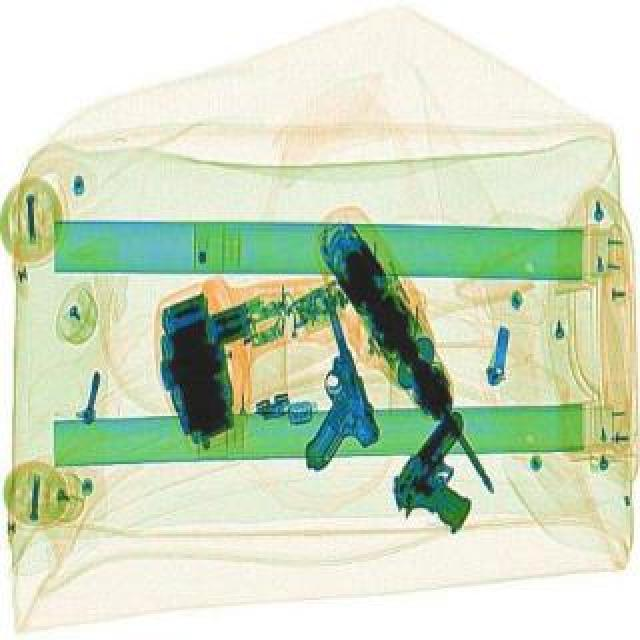gun: (260, 292, 386, 470), (376, 400, 516, 540)
